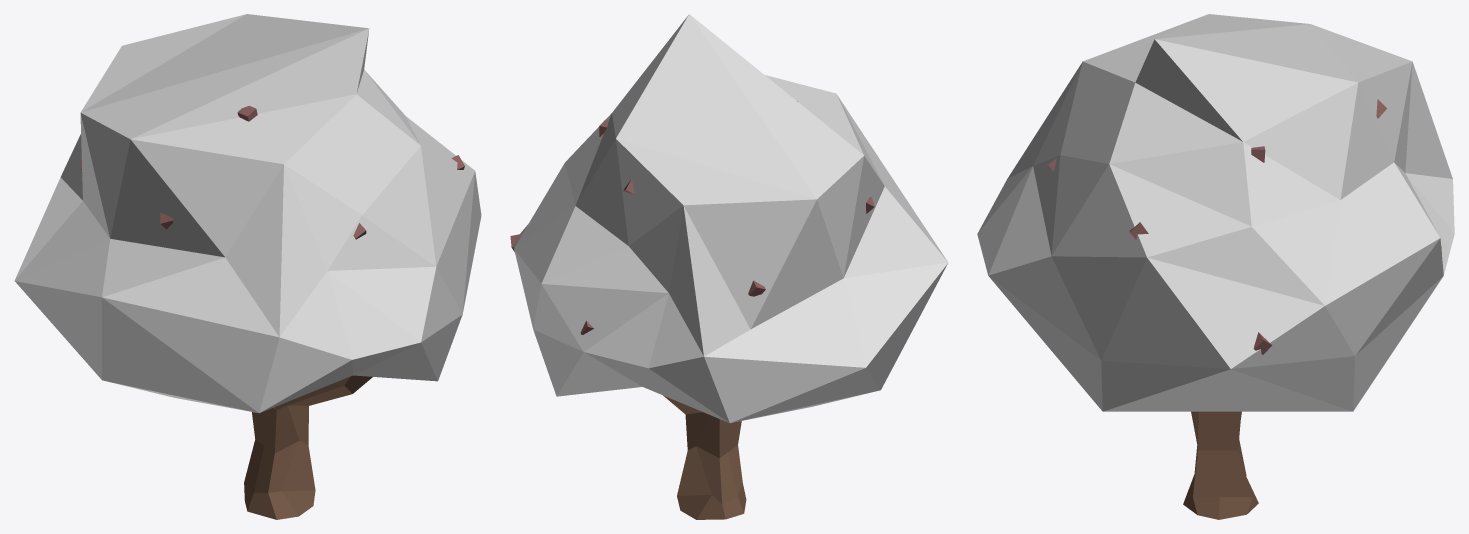
File: Tree_26_White.fbx
3 views of the same model, side by side, from view 1: azimuth 30°, elevation 25°; view 2: azimuth 150°, elevation 25°; view 3: azimuth 270°, elevation 25° (orthographic). The views are drawn at different scales.
Visible parts, largest first — view 1: Tree_26_White_Part_1, Tree_26_White_Part_2, Tree_26_White_Part_3; view 2: Tree_26_White_Part_1, Tree_26_White_Part_2, Tree_26_White_Part_3; view 3: Tree_26_White_Part_1, Tree_26_White_Part_2, Tree_26_White_Part_3.
Part boxes in pixels (bbox=[...]): Tree_26_White_Part_1: bbox=[14, 14, 481, 413]; Tree_26_White_Part_2: bbox=[244, 375, 372, 519]; Tree_26_White_Part_3: bbox=[80, 105, 464, 239]; Tree_26_White_Part_1: bbox=[513, 14, 948, 423]; Tree_26_White_Part_2: bbox=[663, 395, 746, 519]; Tree_26_White_Part_3: bbox=[510, 101, 874, 334]; Tree_26_White_Part_1: bbox=[977, 14, 1454, 411]; Tree_26_White_Part_2: bbox=[1183, 411, 1258, 519]; Tree_26_White_Part_3: bbox=[1048, 99, 1441, 354].
Bounding box in the file's own units: 717 × 789 × 692.
